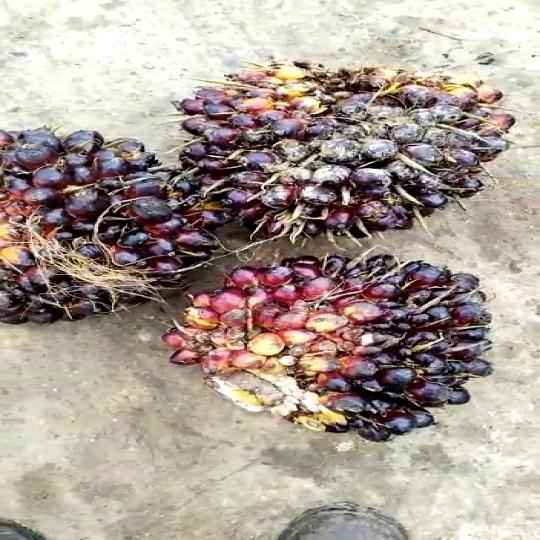kurang masak: (158, 238, 498, 459), (179, 53, 532, 242), (0, 96, 201, 344)
